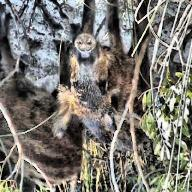boar: (63, 12, 180, 166)
